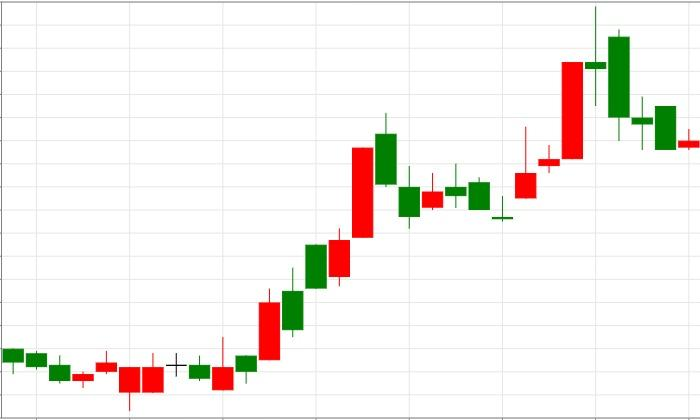morning_star_rise: (375, 113, 536, 229)
